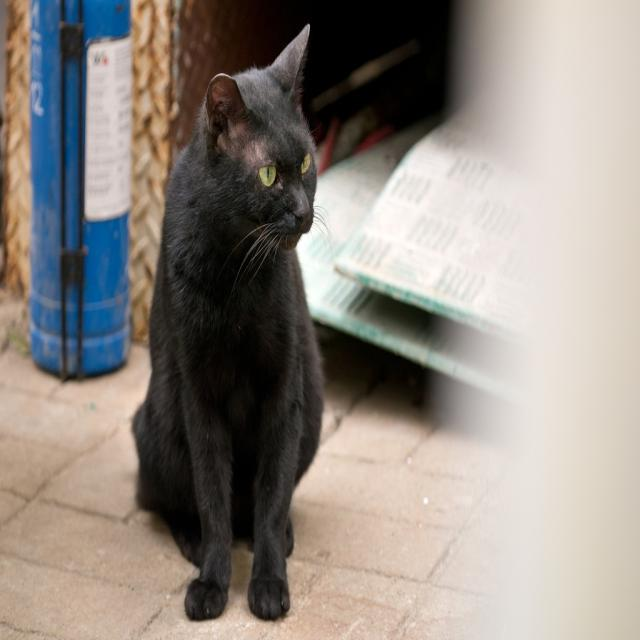Cat: (125, 20, 336, 628)
